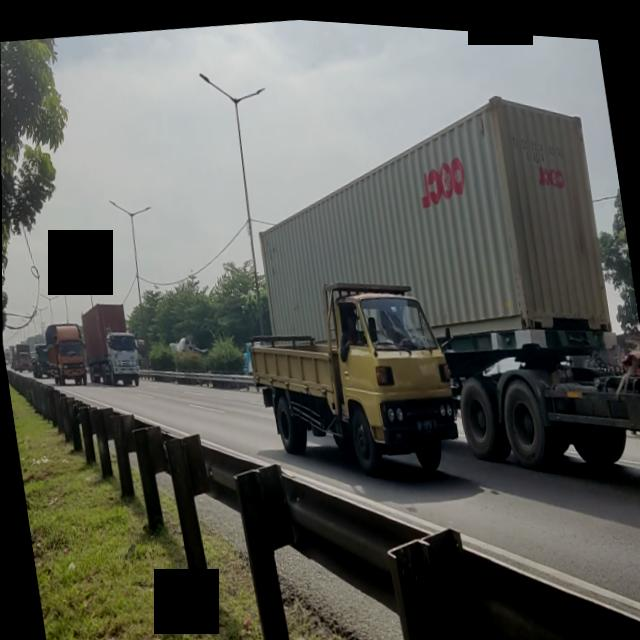Golongan II: (237, 260, 469, 495)
